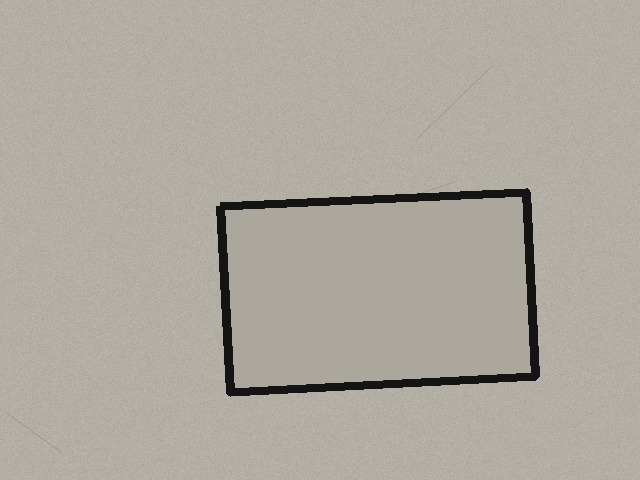parking_area: (220, 192, 535, 392)
